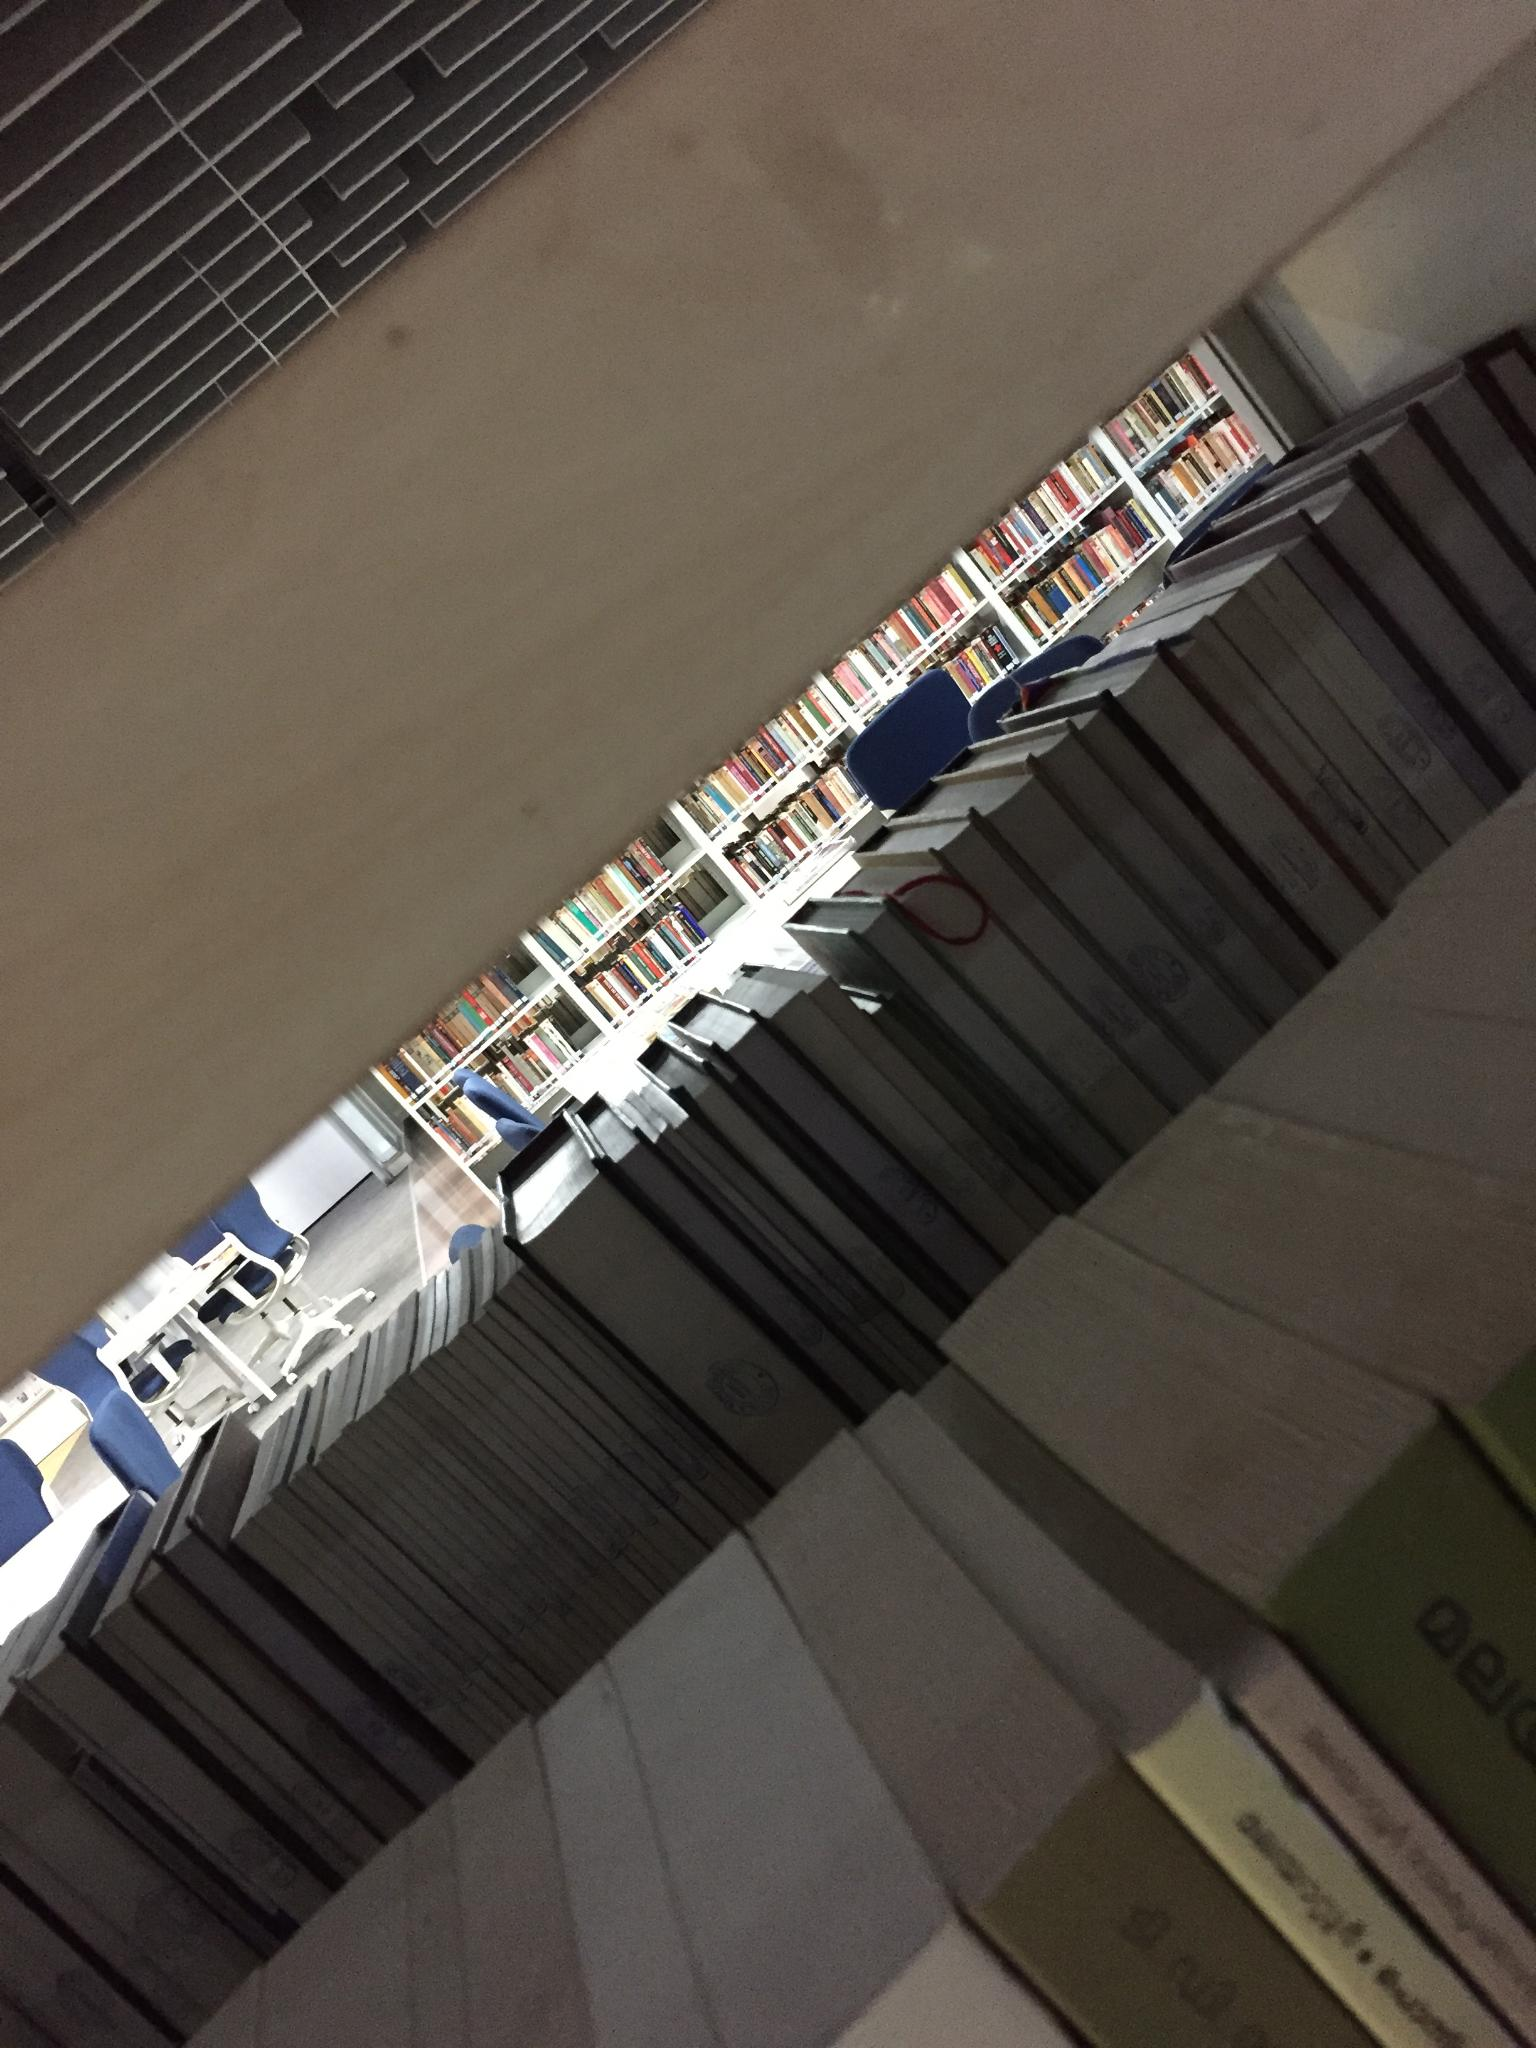chair: (152, 1126, 382, 1422), (821, 647, 1007, 837), (452, 1042, 618, 1205), (92, 1385, 247, 1519), (0, 1424, 89, 1632), (21, 1272, 110, 1403)
